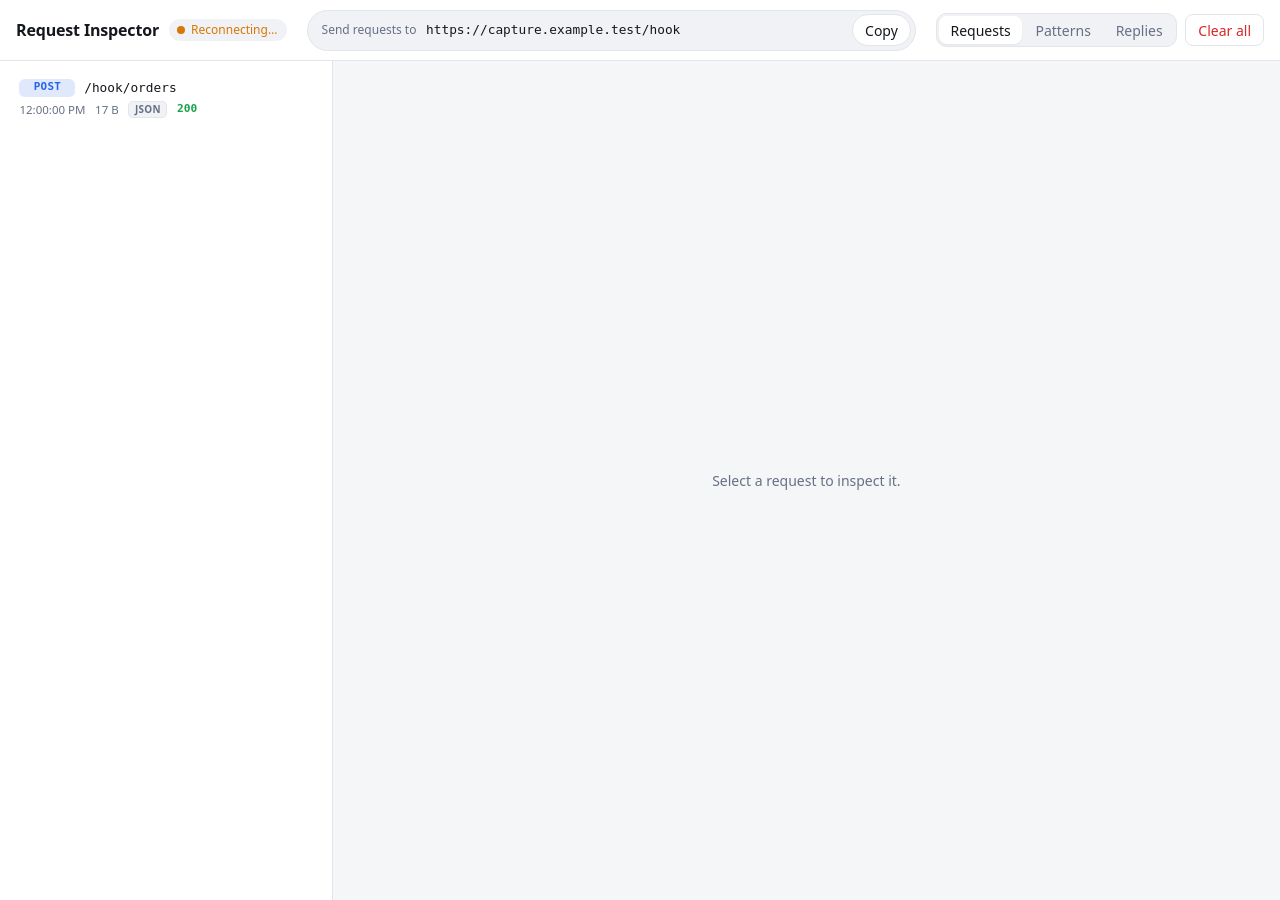
patterns view › opens the source request from a table row
The width and height of the screenshot is (1280, 900).
Click the tab "Patterns" at (1063, 30), box [1024,16,1102,44]
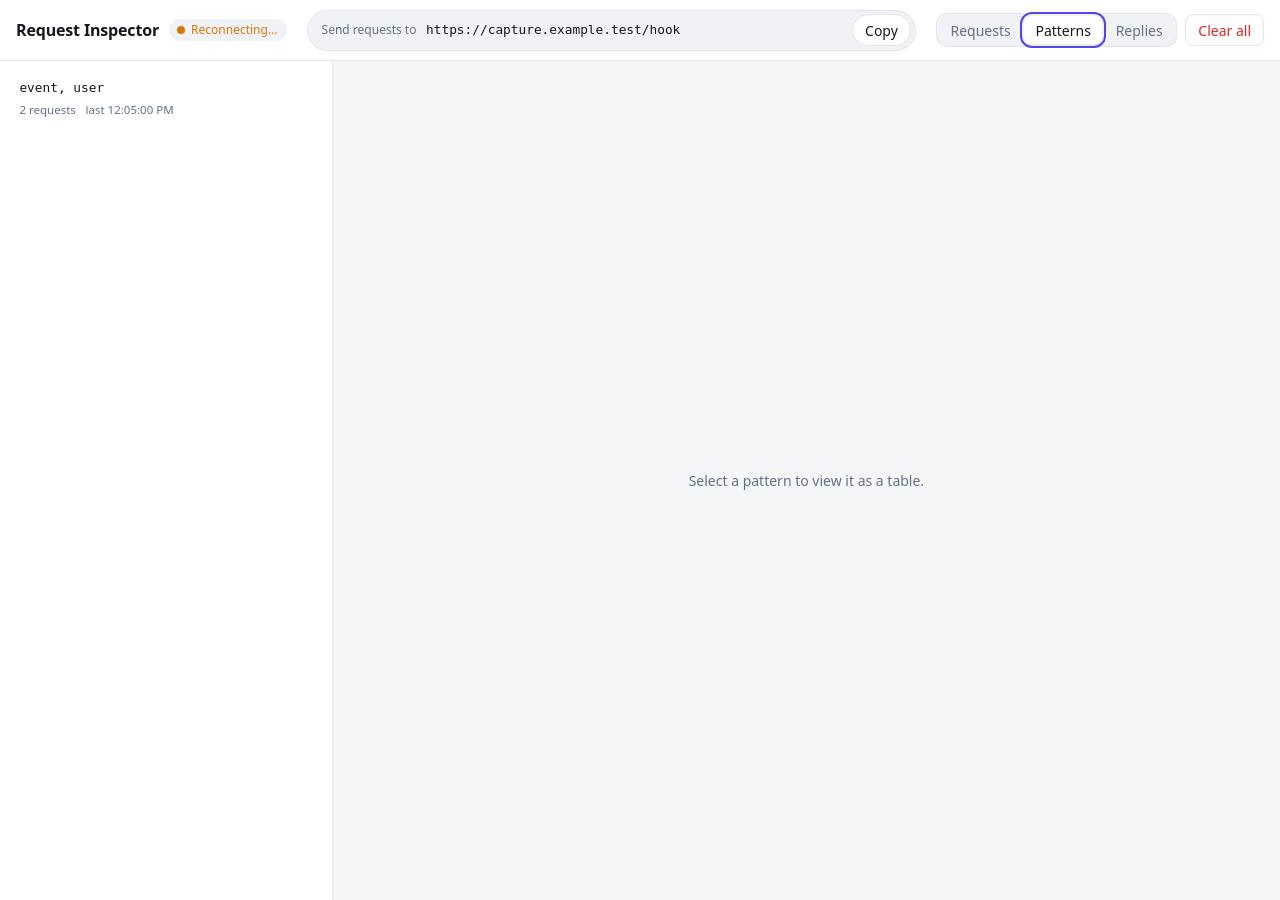
Click the text "event, user" at (62, 88), box [19,78,104,97]
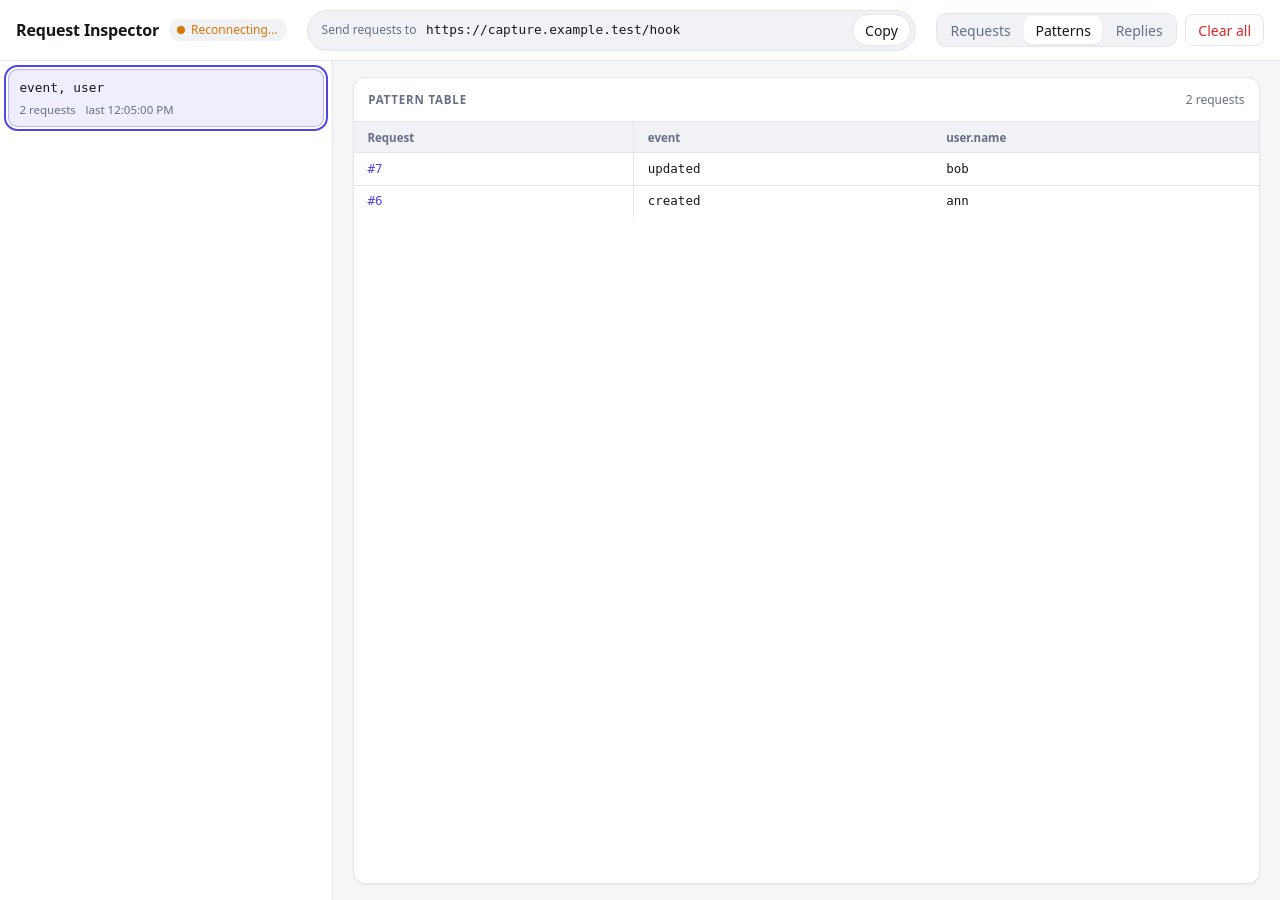
Click the button named "Open request 7" at (375, 169), box [367,160,382,178]
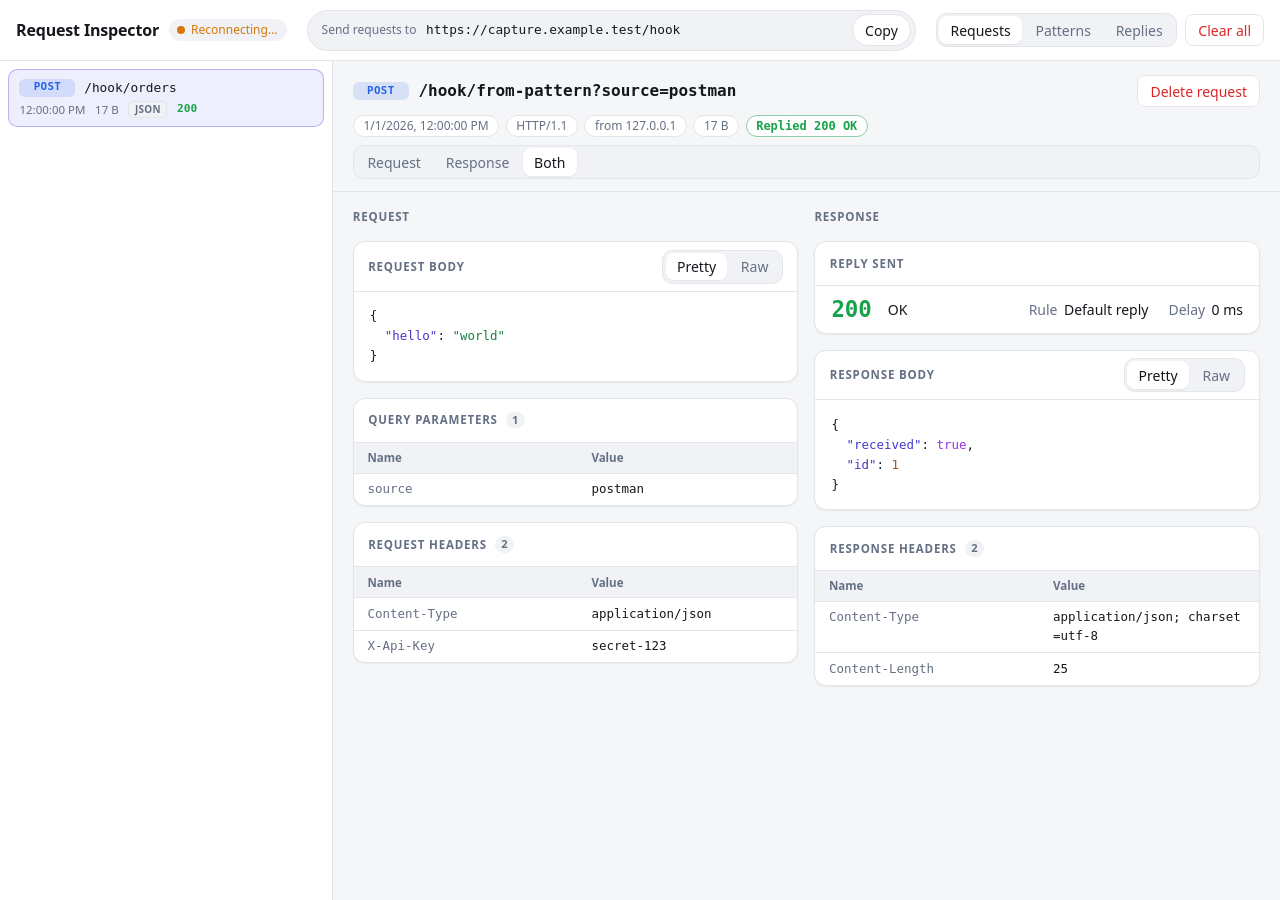
Now the heading "POST /hook/from-pattern?source=postman" is shown, box [353,79,736,103]
